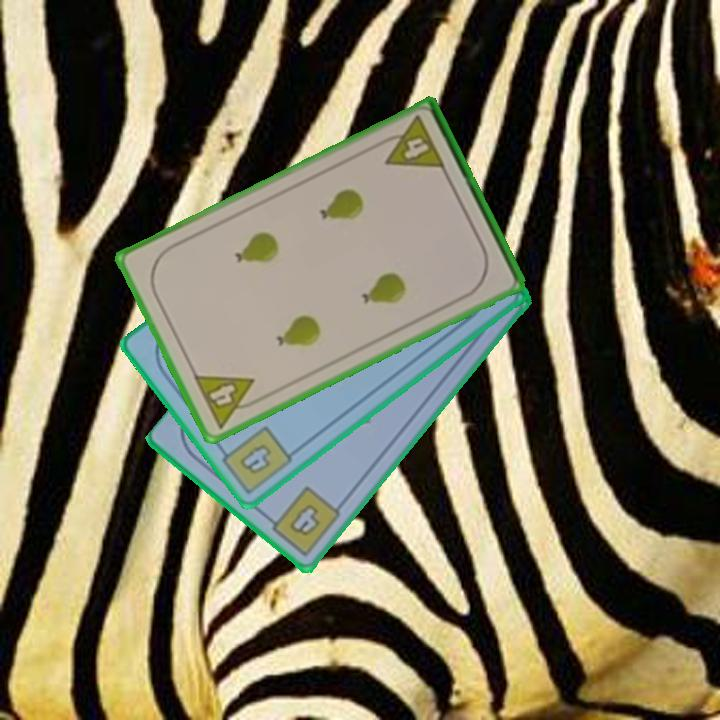4b: (262, 483, 344, 560), (214, 422, 296, 494)
4p: (189, 371, 266, 431), (374, 112, 448, 173)
